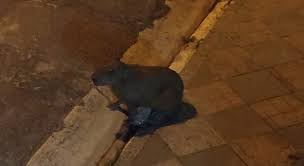capivara: (89, 57, 185, 123)
